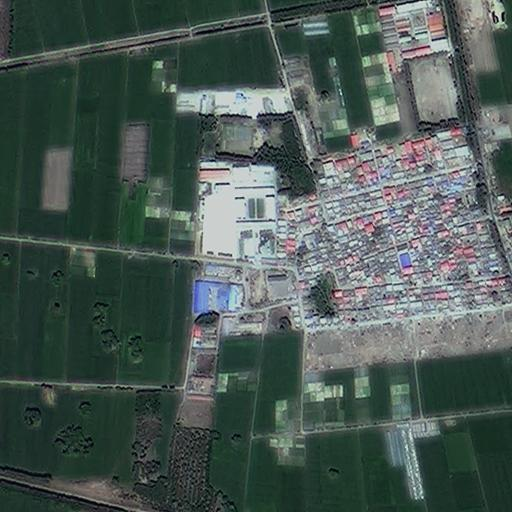school: (195, 158, 277, 262)
